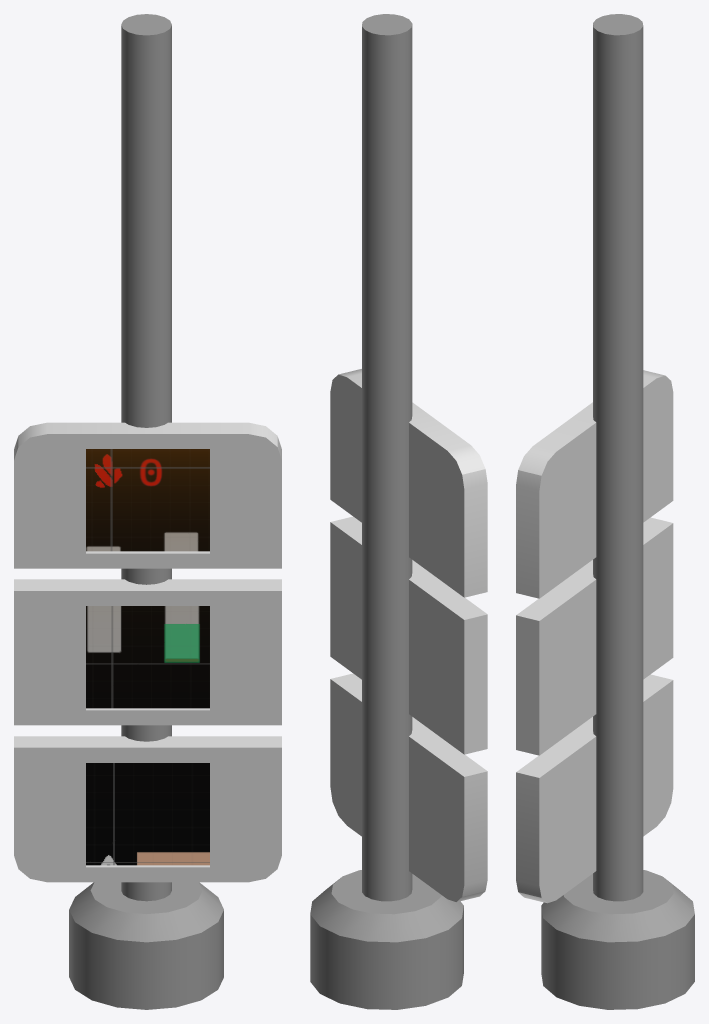
File: SM_RocketConfigurator.fbx
The picture shows the model from 3 angles, left to right: view 1: azimuth 30°, elevation 25°; view 2: azimuth 150°, elevation 25°; view 3: azimuth 270°, elevation 25°; orthographic projection.
Parts seen in each view (by area): view 1: Spine, SelectorBody, SelectorProp, SelectorFront; view 2: Spine, SelectorBody, SelectorFront, SelectorProp; view 3: Spine, SelectorBody, SelectorFront, SelectorProp.
Part boxes in pixels (box(x1,y1,x2,y2)): Spine: box(69, 14, 223, 1009); SelectorBody: box(14, 579, 281, 725); SelectorProp: box(14, 736, 281, 882); SelectorFront: box(14, 422, 281, 568); Spine: box(310, 14, 463, 1009); SelectorBody: box(330, 516, 487, 754); SelectorFront: box(330, 369, 487, 597); SelectorProp: box(330, 673, 487, 902); Spine: box(541, 14, 694, 1009); SelectorBody: box(516, 517, 673, 755); SelectorFront: box(516, 370, 673, 598); SelectorProp: box(516, 674, 673, 903).
Size of the model in its own units: 1.34 by 5.73 by 0.9759.
Materials: 2 (2 with a texture image).
